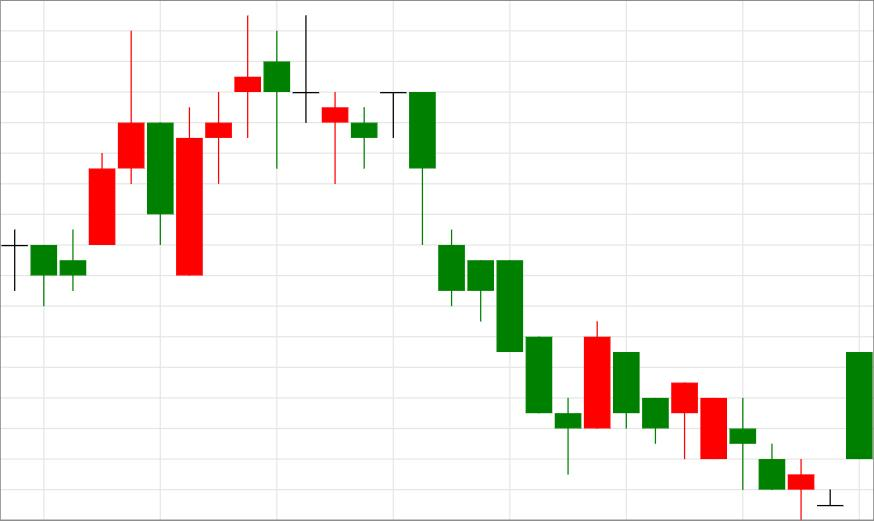morning_star_rise: (382, 91, 611, 474)
